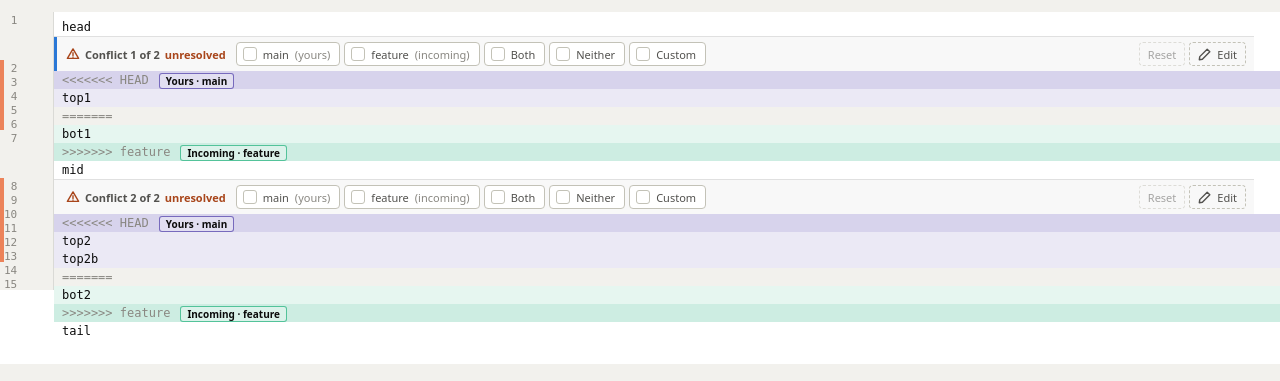
conflict block layer (specs/edit-in-diff.md FR-556..FR-564) › hover or focus shows a passive preview and changes nothing
Hover over the button "feature (incoming)" in the row of "Conflict 1 of 2" at (412,54), box [344,42,480,66]
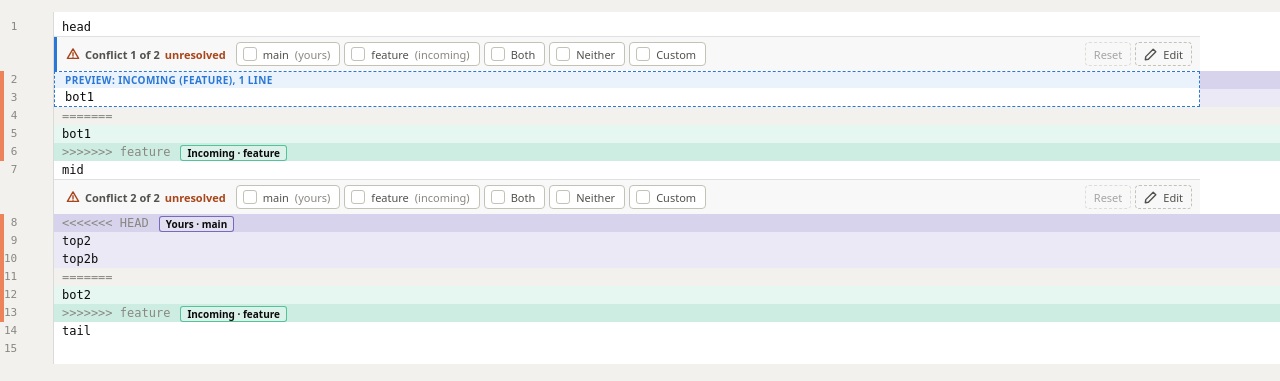
Now the element with class "gh-cf-pv" shows "bot1", box [65,90,94,104]
